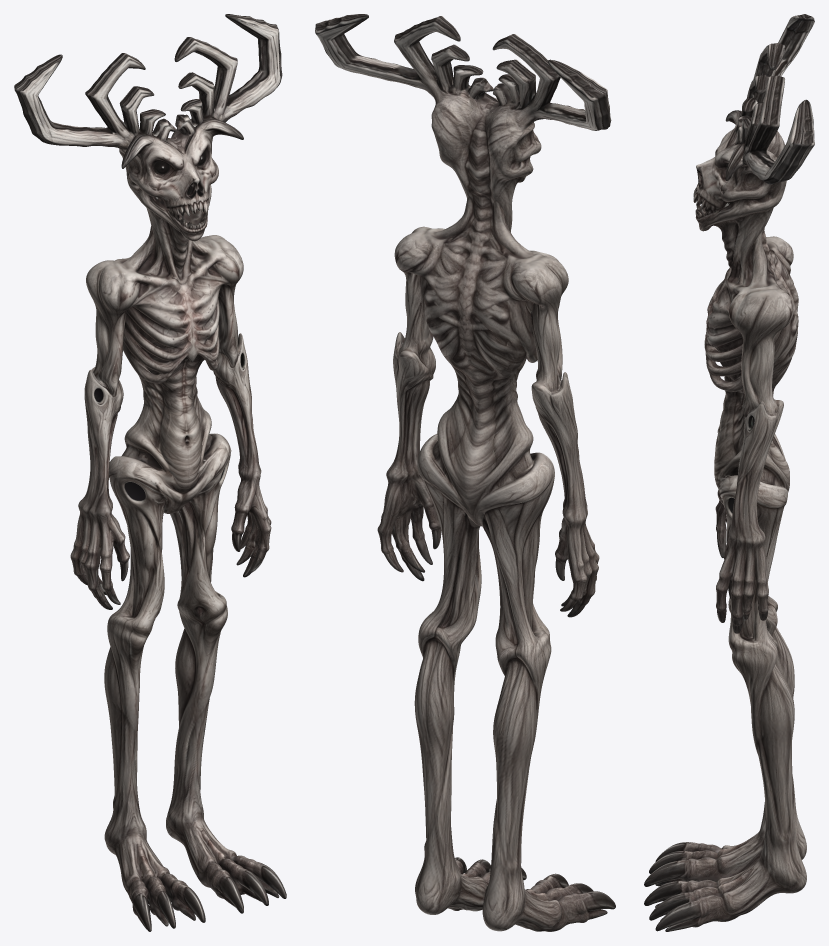
3 views of the same model, side by side, from view 1: azimuth 30°, elevation 25°; view 2: azimuth 150°, elevation 25°; view 3: azimuth 270°, elevation 25° (orthographic). The views are drawn at different scales.
Parts seen in each view (by area): view 1: Object_01; view 2: Object_01; view 3: Object_01.
Boxes of the visible parts, <box> form: Object_01: <box>14,14,286,931</box>; Object_01: <box>315,14,615,931</box>; Object_01: <box>644,14,814,931</box>.
Bounding box in the file's own units: 79.52 × 240 × 44.22.
